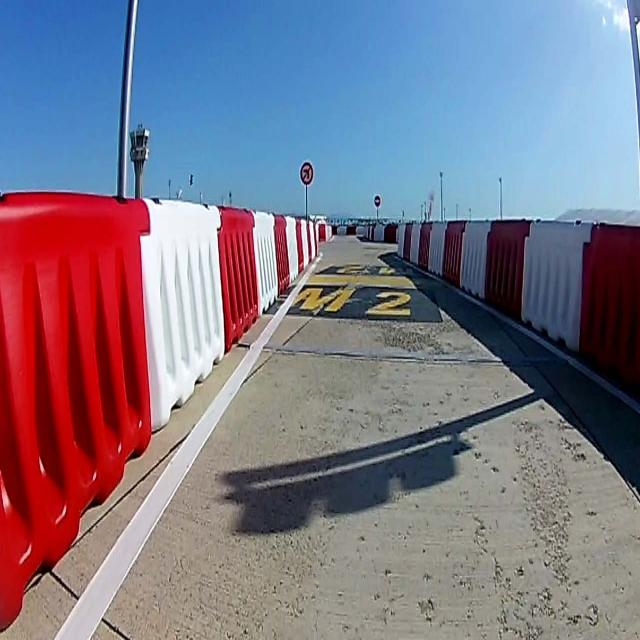girisyok: (374, 196, 381, 208)
soladonulmez: (300, 162, 313, 185)
